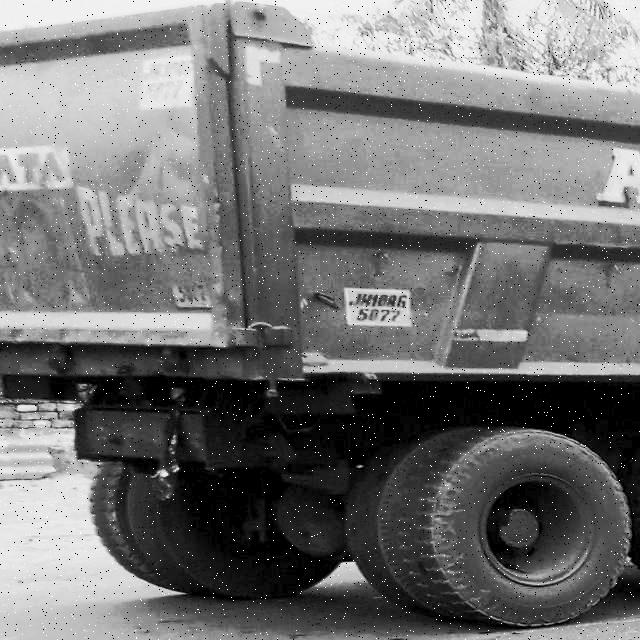HCV: (1, 10, 640, 639)
